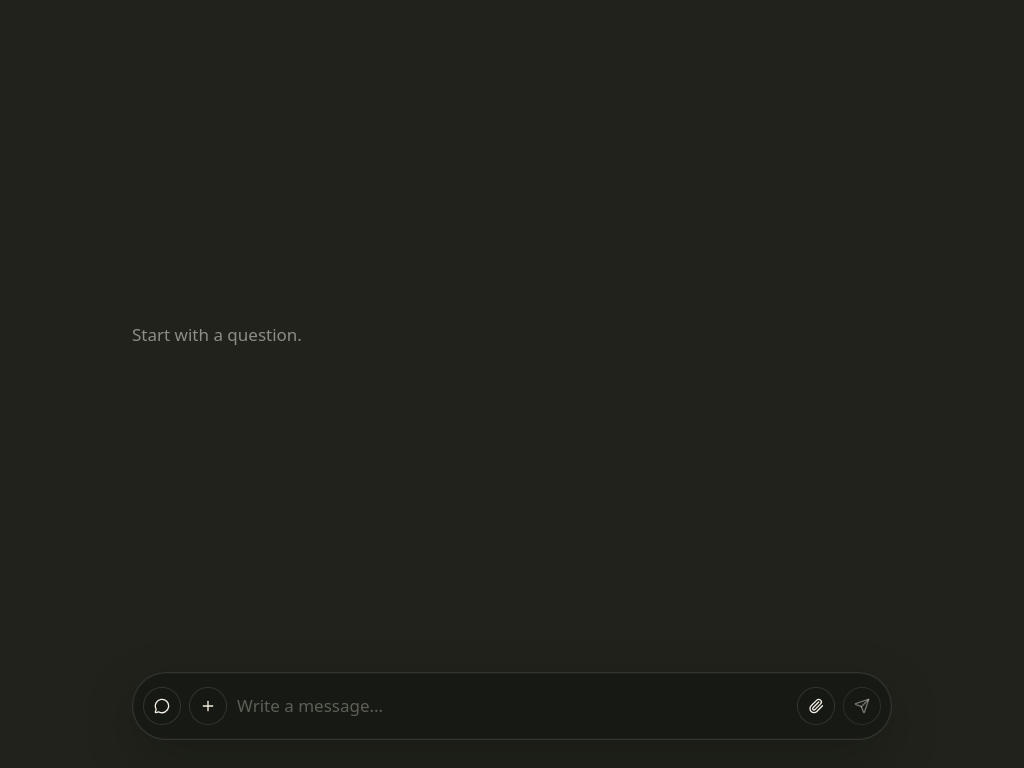
it: approval decisions › keeps default browser preview approvals and sessions panel wired to the dev runtime
This screenshot has width=1024, height=768.
Step 1. Type "approval please" into the text box with placeholder "Write a message..." → point(512, 706), box [237,695,787,717]
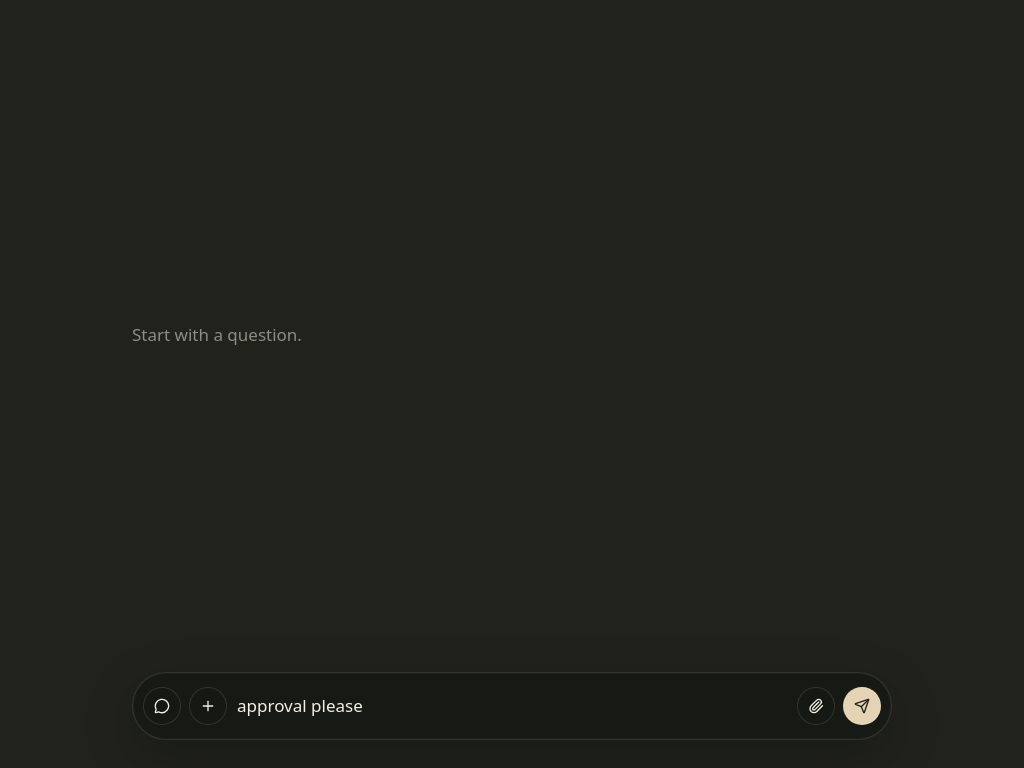
Step 2. Click the button named "Send message" → point(862, 706), box [843,687,881,725]
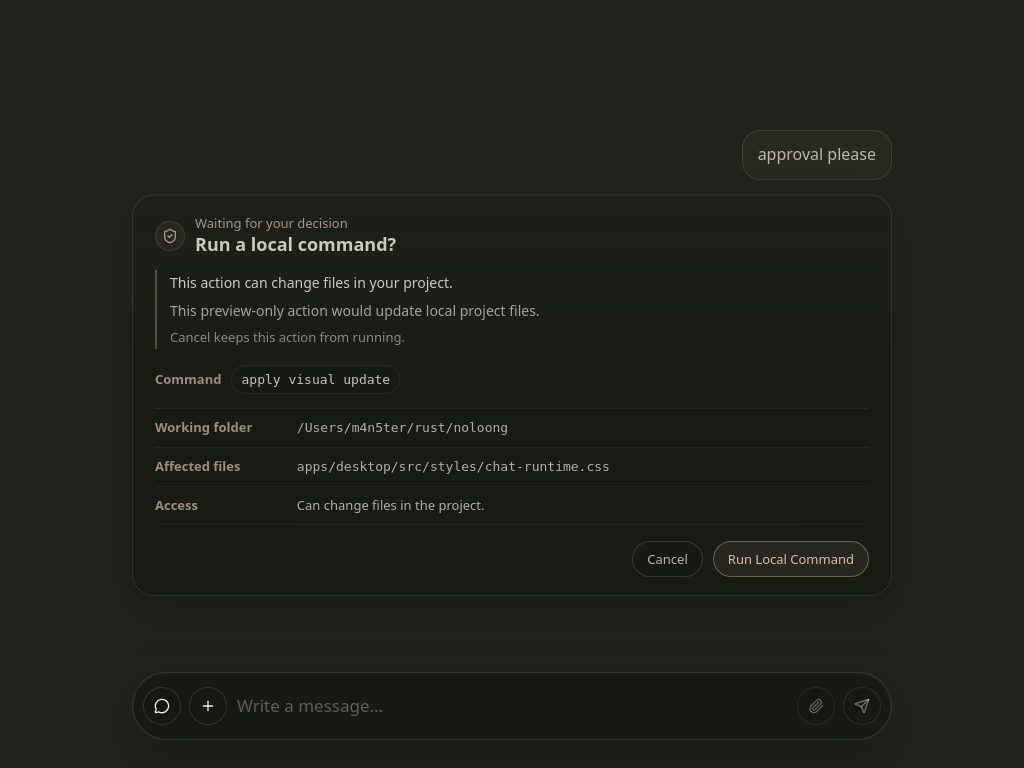
Now the heading "Run a local command?" is shown, box [195,232,396,256]
Now the button "Run Local Command" is shown, box [713,541,869,577]
Now the button "Cancel" is shown, box [632,541,703,577]
Step 3. Click the button named "Sessions" → point(162, 706), box [143,687,181,725]
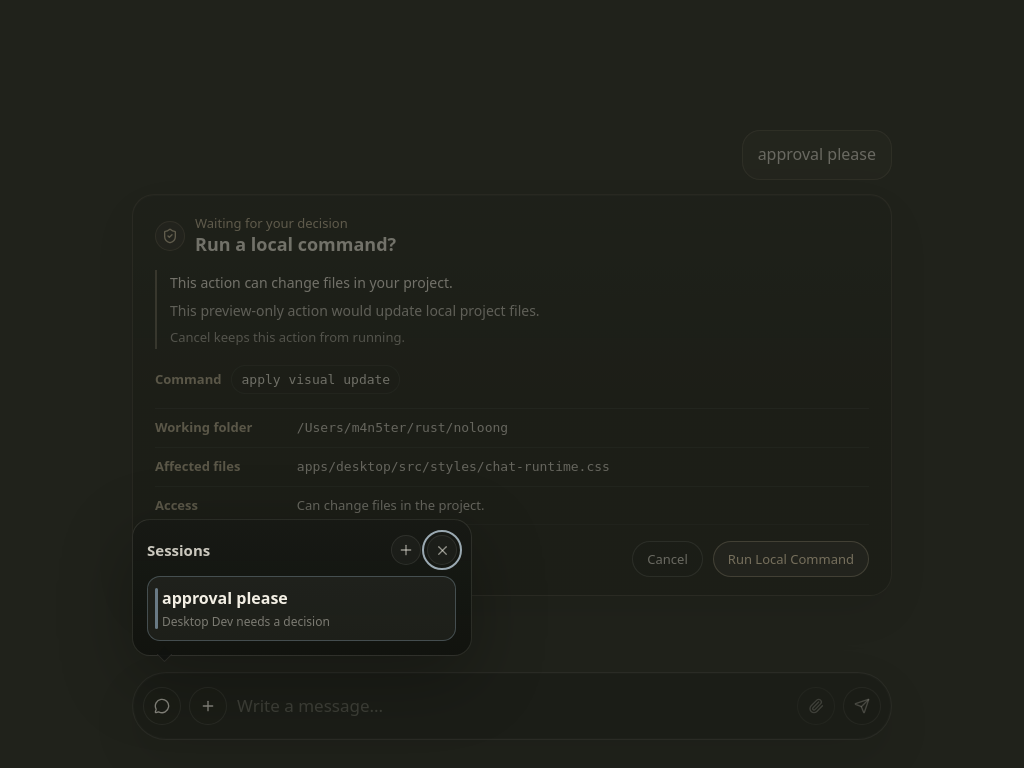
Now the button named "Create session" in the row of "Sessions" is shown, box [391,535,421,565]
Now the text "Desktop Dev needs a decision" is shown, box [162,613,330,630]
